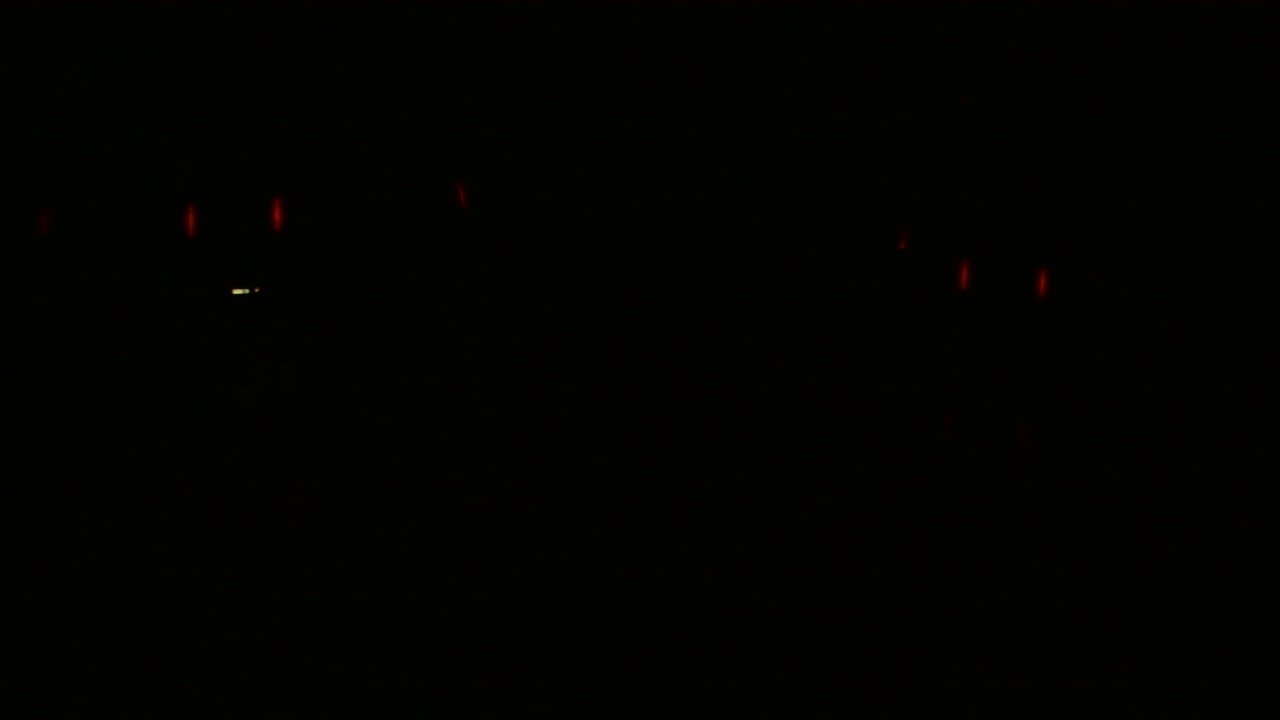pair1: (177, 194, 285, 241), (955, 258, 1053, 295)
